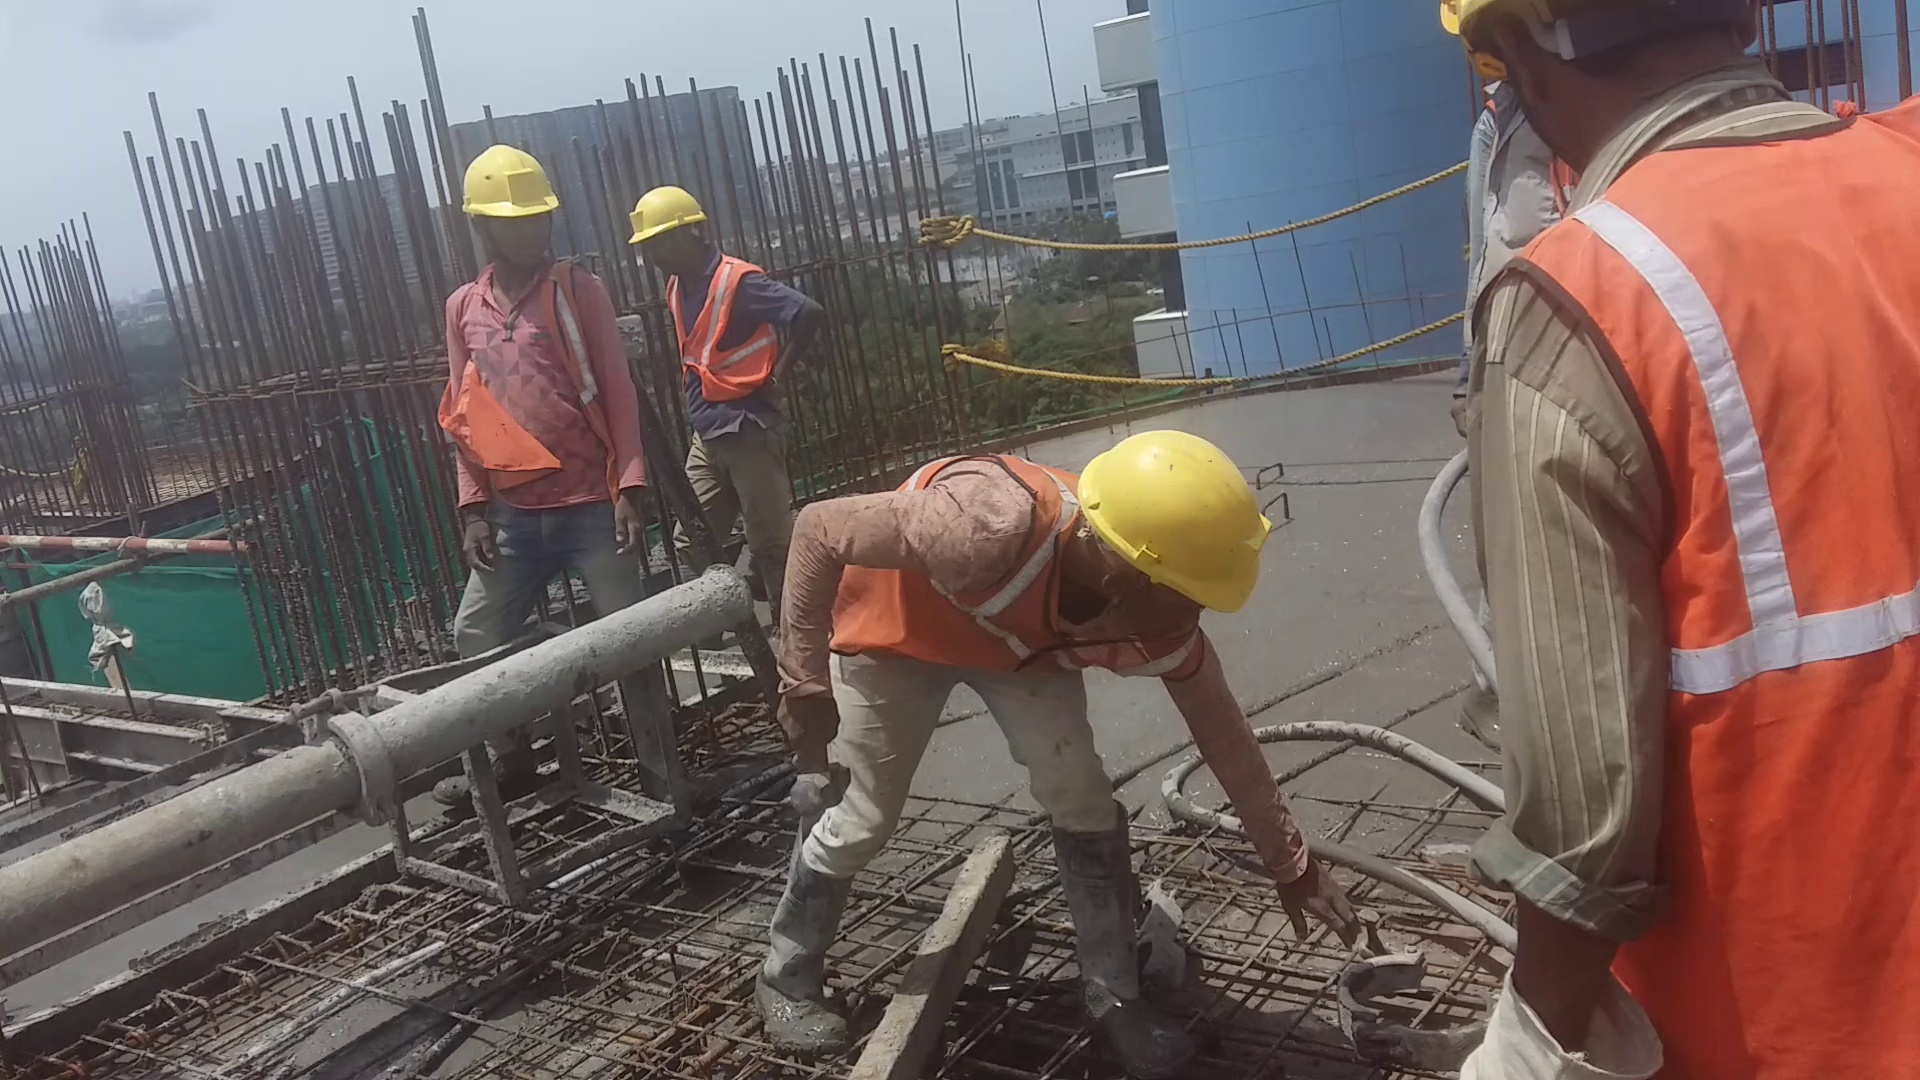NoHardhat: (1444, 3, 1919, 1047)
SAFE: (764, 429, 1279, 698), (439, 133, 584, 505), (630, 177, 785, 411)
